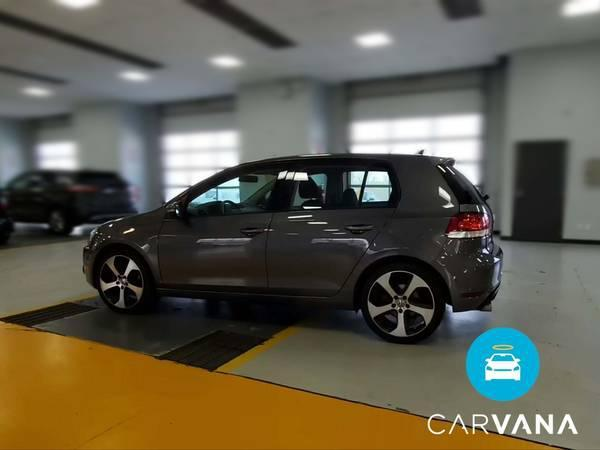Front_Fender: (81, 207, 164, 288)
Front_Left_Door: (160, 213, 273, 297)
Front_Left_Window: (167, 165, 289, 216)
Left_Taillight: (448, 208, 497, 241)
Rear_Bumper: (433, 236, 506, 315)
Rear_Fender: (368, 208, 460, 265)
Rear_Left_Door: (268, 208, 399, 303)
Rear_Left_Window: (275, 160, 402, 211)
Rear_Windshield: (443, 164, 495, 210)
Roof: (166, 150, 459, 211)
Wheel: (361, 263, 445, 346), (96, 251, 149, 315)
